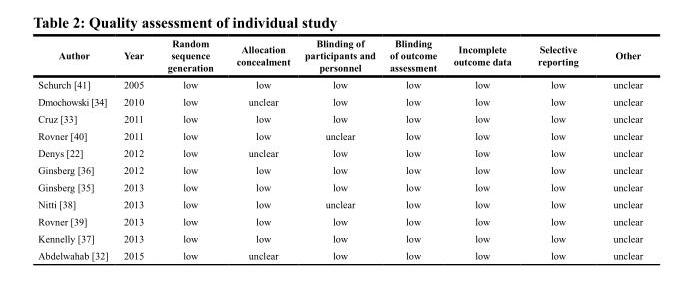table: (37, 37, 642, 260)
table column: (296, 37, 381, 260), (444, 37, 523, 260), (37, 37, 115, 260), (224, 37, 296, 260), (523, 37, 595, 260), (155, 37, 224, 260), (381, 37, 444, 260), (595, 37, 642, 260), (115, 37, 155, 260)
table column header: (37, 37, 642, 75)
table row: (37, 37, 642, 75), (37, 126, 642, 144), (37, 75, 642, 92), (37, 92, 642, 109), (37, 109, 642, 126), (37, 144, 642, 161), (37, 161, 642, 178), (37, 178, 642, 195), (37, 195, 642, 212), (37, 212, 642, 229), (37, 229, 642, 246), (37, 246, 642, 260)
